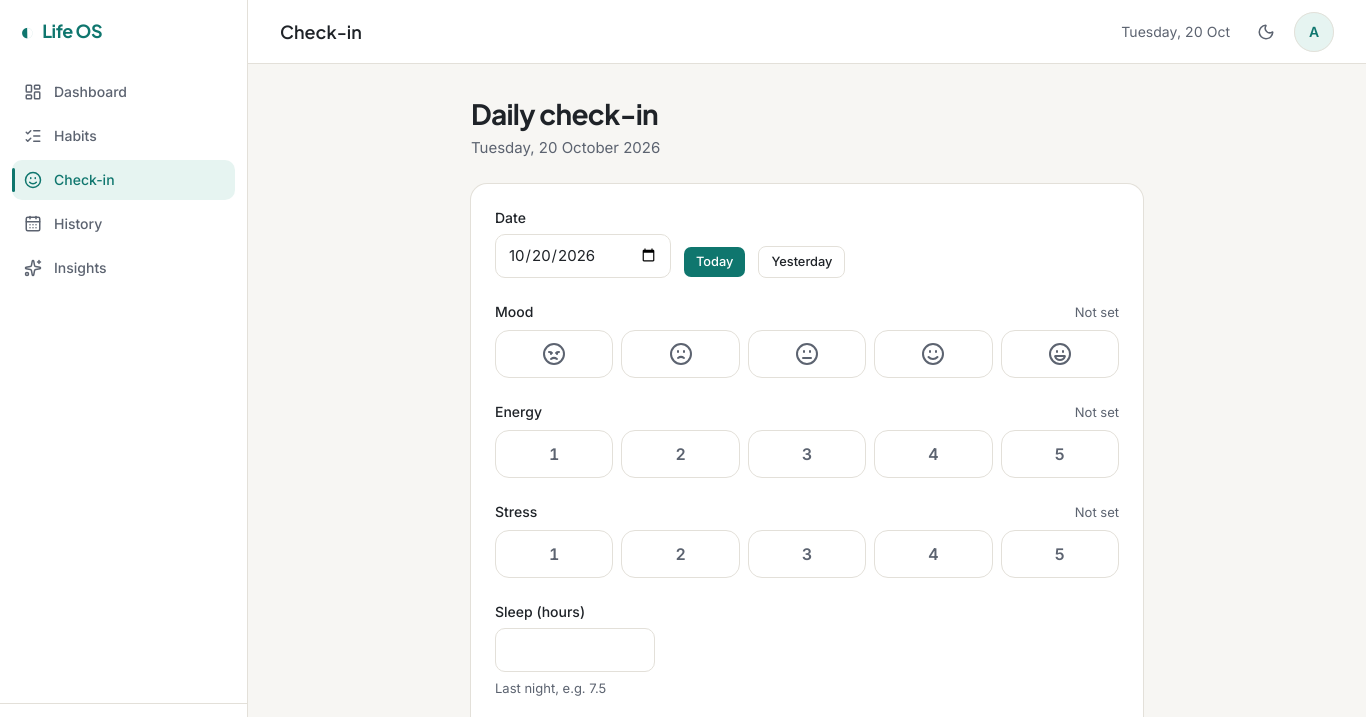
Test: CheckInPage › validates sleep hours
This screenshot has width=1366, height=717.
Type "25" into the number field labelled "Sleep (hours)". click: (575, 650)
box: 495,628 -> 655,672
(page scrolled)
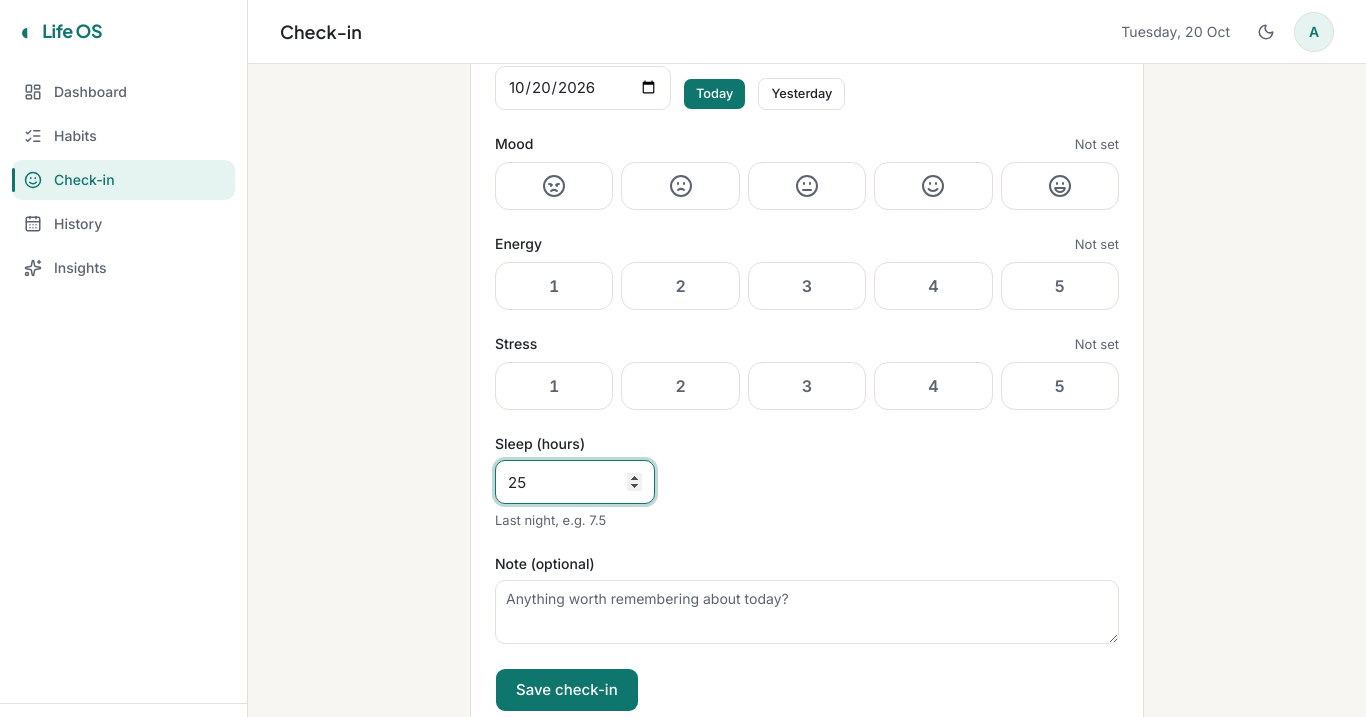
Click the button "Save check-in". click: (567, 690)
box: 495,668 -> 639,712
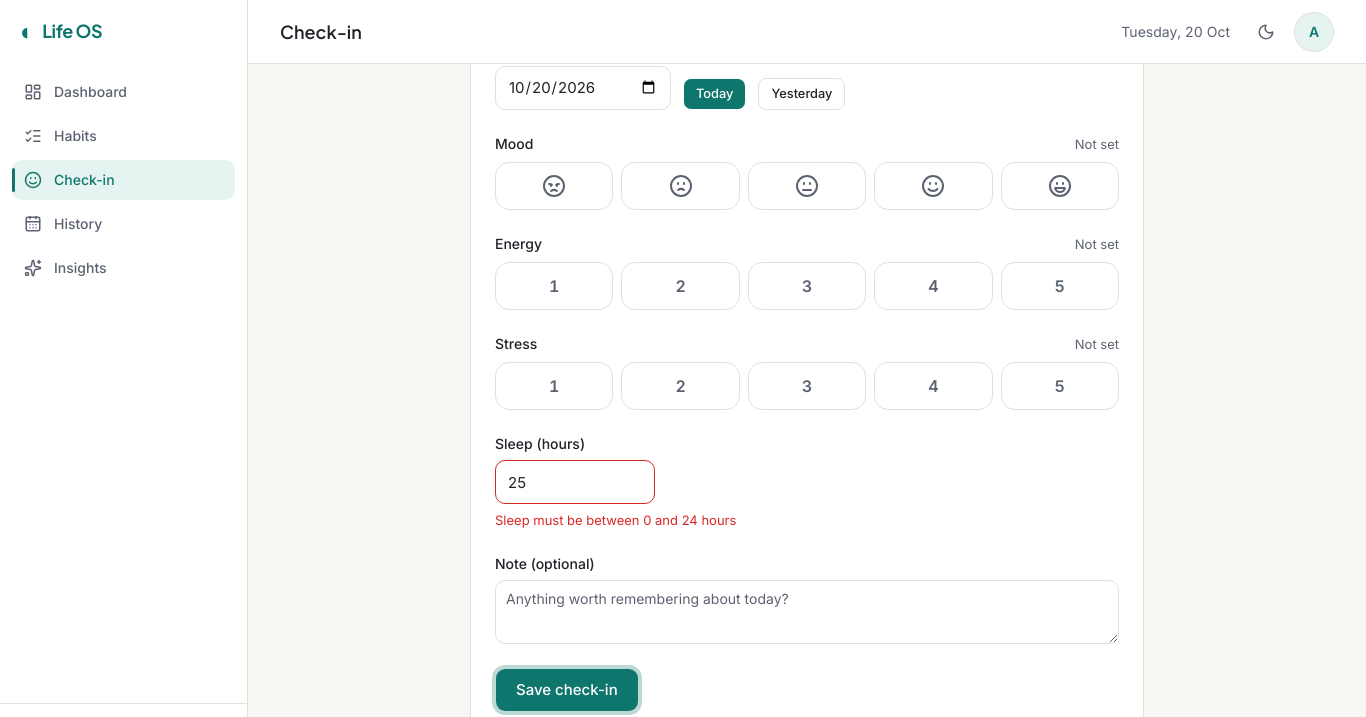
Expected: the text "Sleep must be between 0 and 24 hours" is shown, 495,512 -> 736,528
